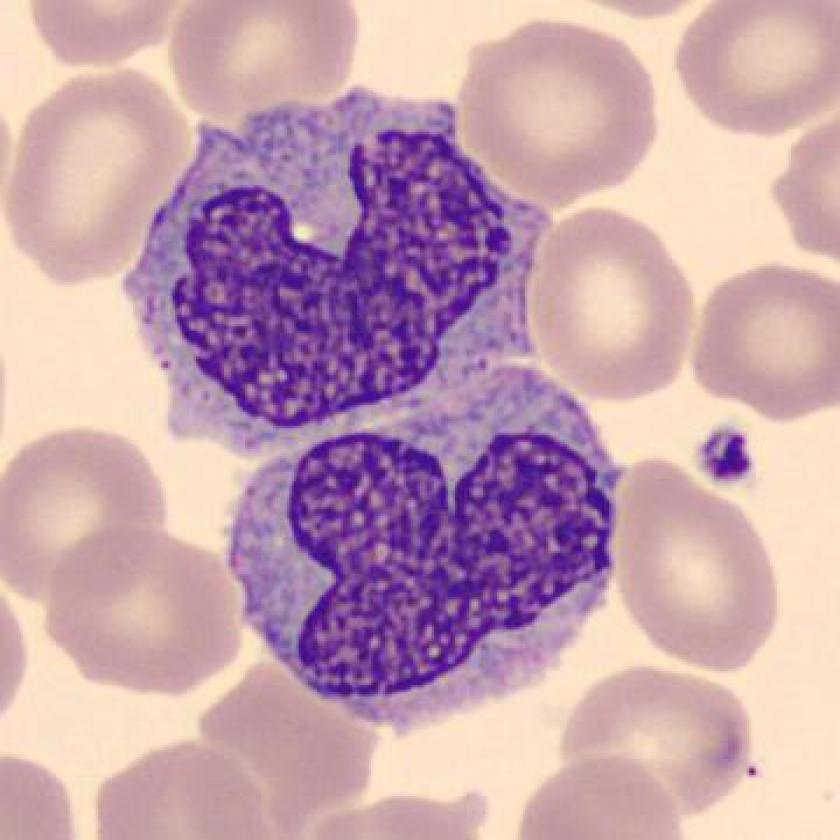monocyte: (111, 61, 554, 459)
